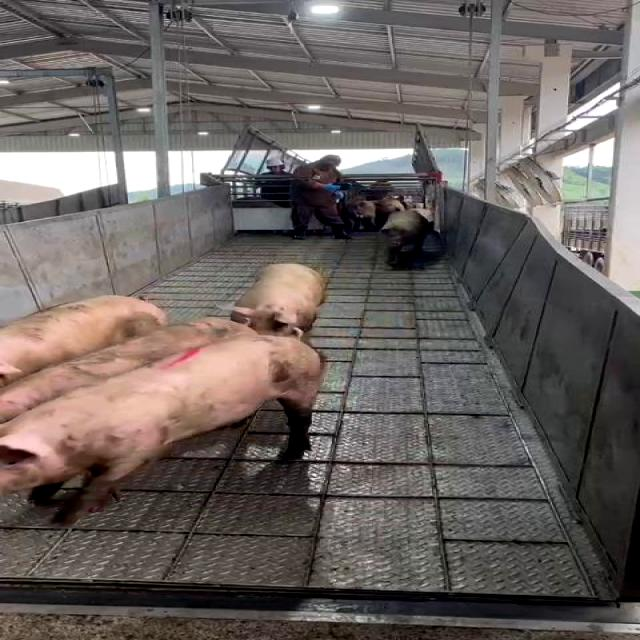pig: (0, 335, 323, 523), (0, 318, 256, 422), (0, 295, 167, 386), (231, 264, 325, 337), (380, 210, 433, 270)
